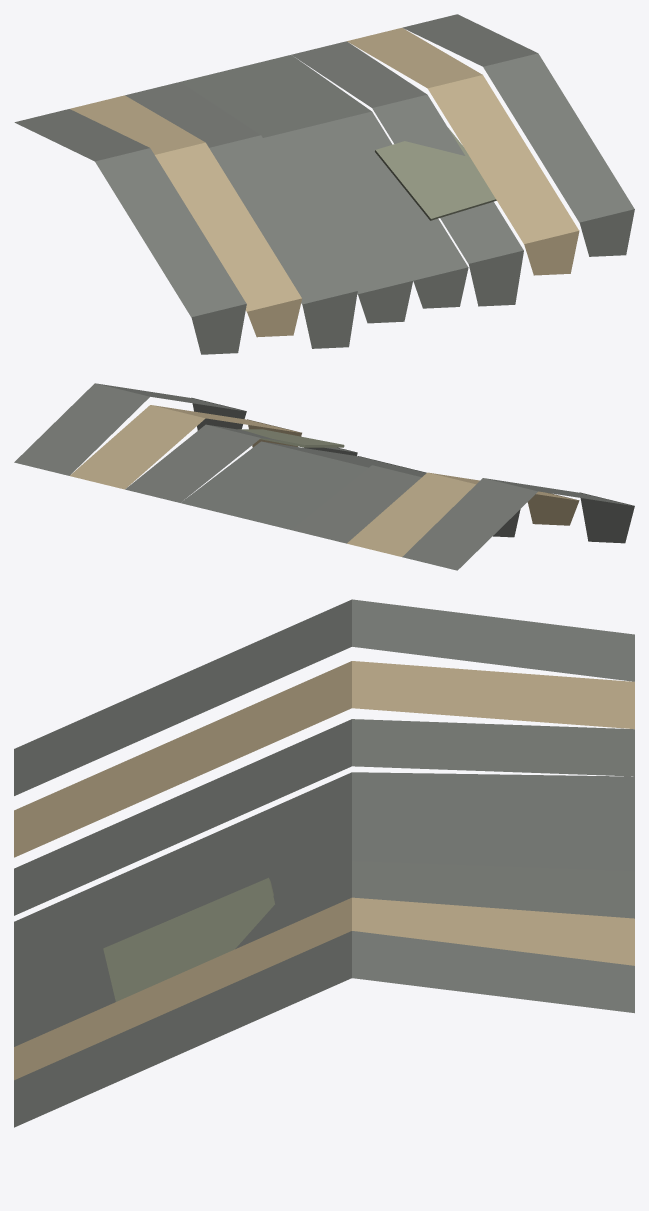
The model's file is awning_grey.glb.
The picture shows the model from 3 angles, top to bottom: view 1: azimuth 30°, elevation 25°; view 2: azimuth 150°, elevation 25°; view 3: azimuth 270°, elevation 25°; orthographic projection. The views are drawn at different scales.
Parts seen in each view (by area): view 1: sun-faded canvas.019, sun-faded canvas.022, sun-faded canvas.016, sun-faded canvas.023, sun-faded canvas.018, sun-faded canvas.020, sun-faded canvas.017, sun-faded canvas.021, stitched canvas patch.002, frayed valance.018, frayed valance.021, frayed valance.016 (+5 smaller); view 2: sun-faded canvas.023, sun-faded canvas.016, sun-faded canvas.022, sun-faded canvas.020, sun-faded canvas.017, sun-faded canvas.021, sun-faded canvas.019, sun-faded canvas.018, frayed valance.016, frayed valance.017, stitched canvas patch.002, frayed valance.023 (+2 smaller); view 3: sun-faded canvas.016, sun-faded canvas.019, sun-faded canvas.023, sun-faded canvas.017, sun-faded canvas.018, sun-faded canvas.020, sun-faded canvas.022, sun-faded canvas.021, stitched canvas patch.002.
Boxes of the visible parts, x1,y1,x2,y2 form: sun-faded canvas.019: (180,68,412,294); sun-faded canvas.022: (347,28,578,244); sun-faded canvas.016: (14,109,246,317); sun-faded canvas.023: (402,14,634,222); sun-faded canvas.018: (125,82,357,304); sun-faded canvas.020: (236,55,467,280); sun-faded canvas.017: (70,95,301,311); sun-faded canvas.021: (291,41,523,263); stitched canvas patch.002: (375,128,496,220); frayed valance.018: (302,291,357,348); frayed valance.021: (468,250,523,306); frayed valance.016: (191,304,246,354); sun-faded canvas.023: (14,383,244,475); sun-faded canvas.016: (402,478,632,570); sun-faded canvas.022: (70,405,300,489); sun-faded canvas.020: (181,441,411,516); sun-faded canvas.017: (347,472,577,556); sun-faded canvas.021: (125,424,355,502); sun-faded canvas.019: (236,455,426,529); sun-faded canvas.018: (291,465,425,543); frayed valance.016: (580,492,634,543); frayed valance.017: (527,493,579,525); stitched canvas patch.002: (238,429,344,447); frayed valance.023: (191,397,246,430); sun-faded canvas.016: (14,599,634,795); sun-faded canvas.019: (14,772,634,968); sun-faded canvas.023: (14,931,634,1127); sun-faded canvas.017: (14,661,634,857); sun-faded canvas.018: (14,719,634,915); sun-faded canvas.020: (14,819,634,1010); sun-faded canvas.022: (14,897,634,1080); sun-faded canvas.021: (14,861,634,1046); stitched canvas patch.002: (103,877,274,1001).
Bounding box in the file's own units: 1.14 × 0.3769 × 0.79.
